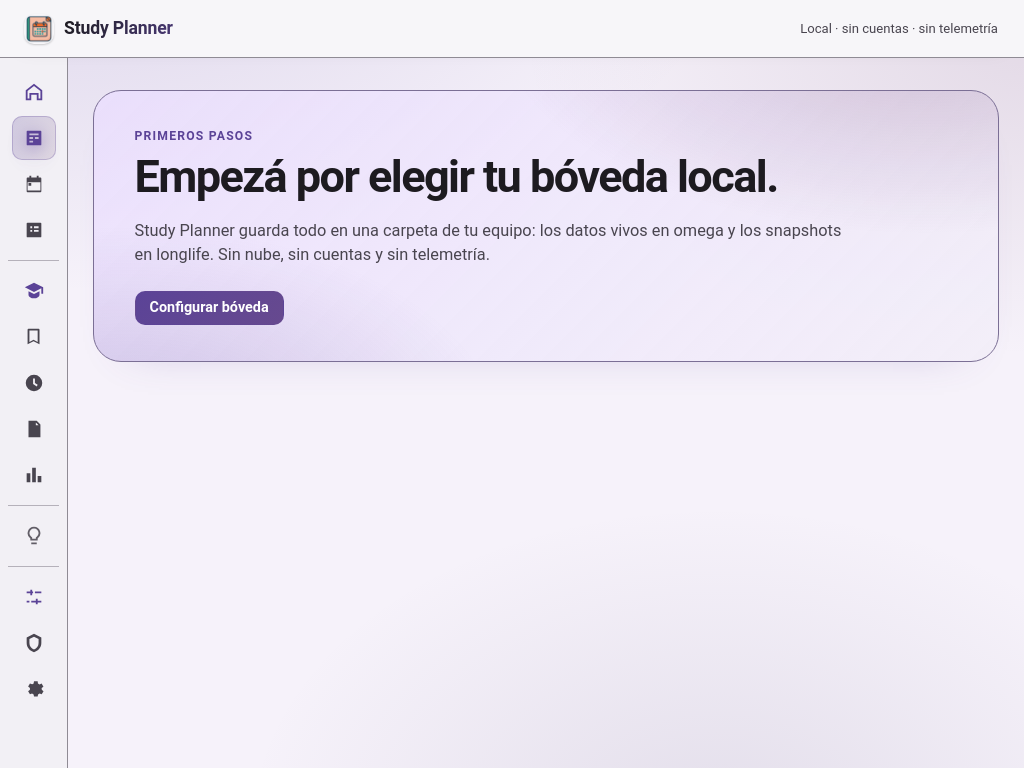
Test: App en navegador › pide configurar la bóveda antes de mostrar tareas
Click the button named "Tareas". click: coordinates (34, 230)
box: [12,208,56,252]
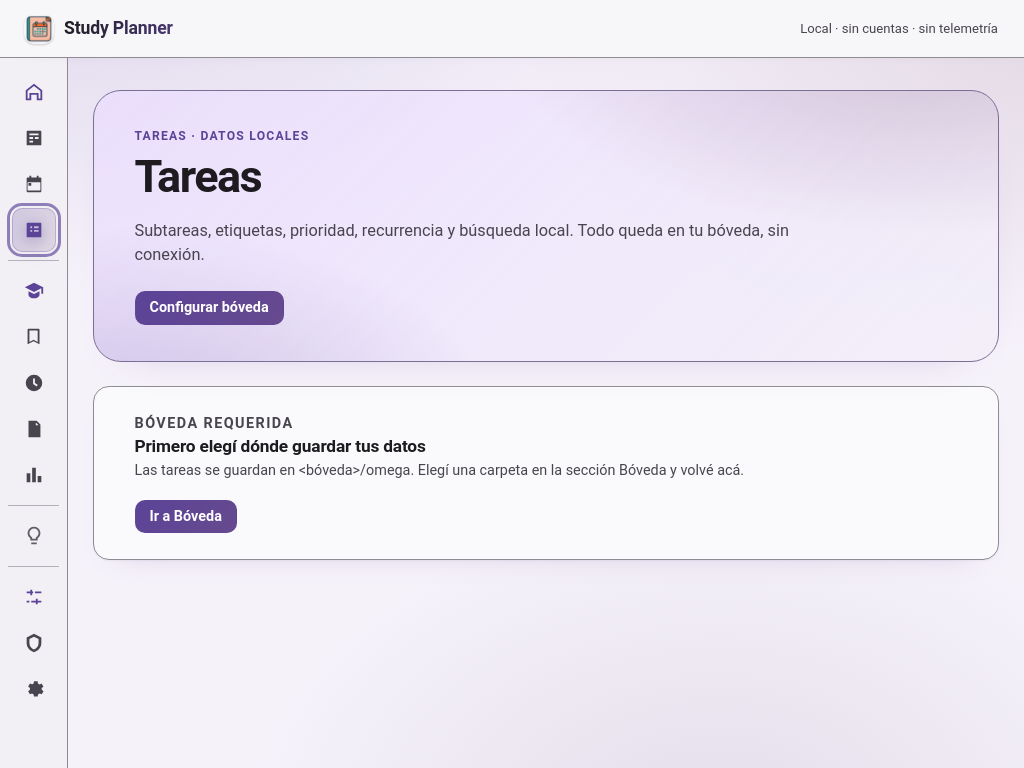
expect the heading "Tareas" is shown: met, box [134,150,261,203]
expect the text "Bóveda requerida" is shown: met, box [134,413,294,434]
expect the button "Ir a Bóveda" is shown: met, box [134,500,237,533]
